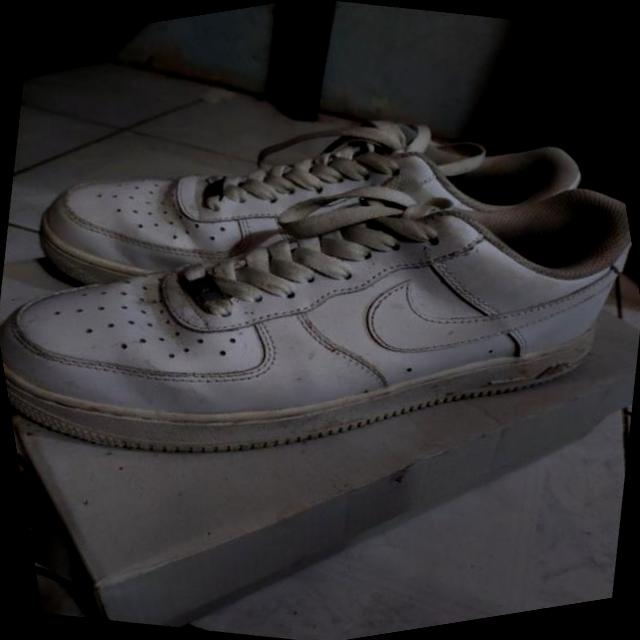nike_original_airforce: (0, 32, 640, 592), (4, 11, 608, 415)
